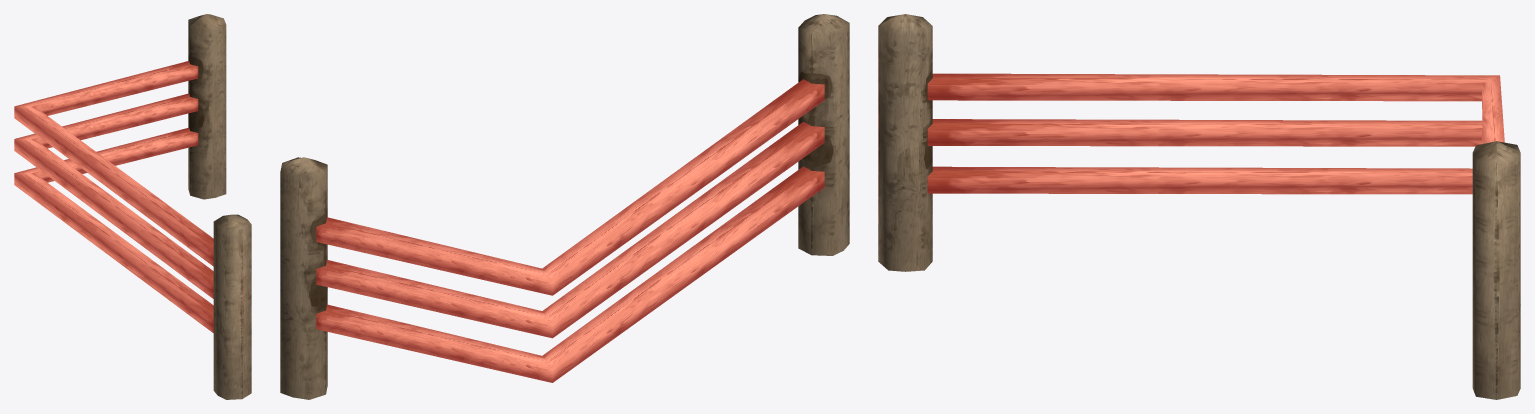
File: gradecurvada 1_.fbx
The picture shows the model from 3 angles, left to right: view 1: azimuth 30°, elevation 25°; view 2: azimuth 150°, elevation 25°; view 3: azimuth 270°, elevation 25°; orthographic projection. The views are drawn at different scales.
Parts seen in each view (by area): view 1: Cube.003; view 2: Cube.003; view 3: Cube.003.
Part boxes in pixels (left/top/right/bottom): Cube.003: left=14, top=14, right=251, bottom=399; Cube.003: left=280, top=14, right=849, bottom=399; Cube.003: left=878, top=14, right=1520, bottom=399.
Size of the model in its own units: 245 by 191 by 448.
1 material, 1 textured.
